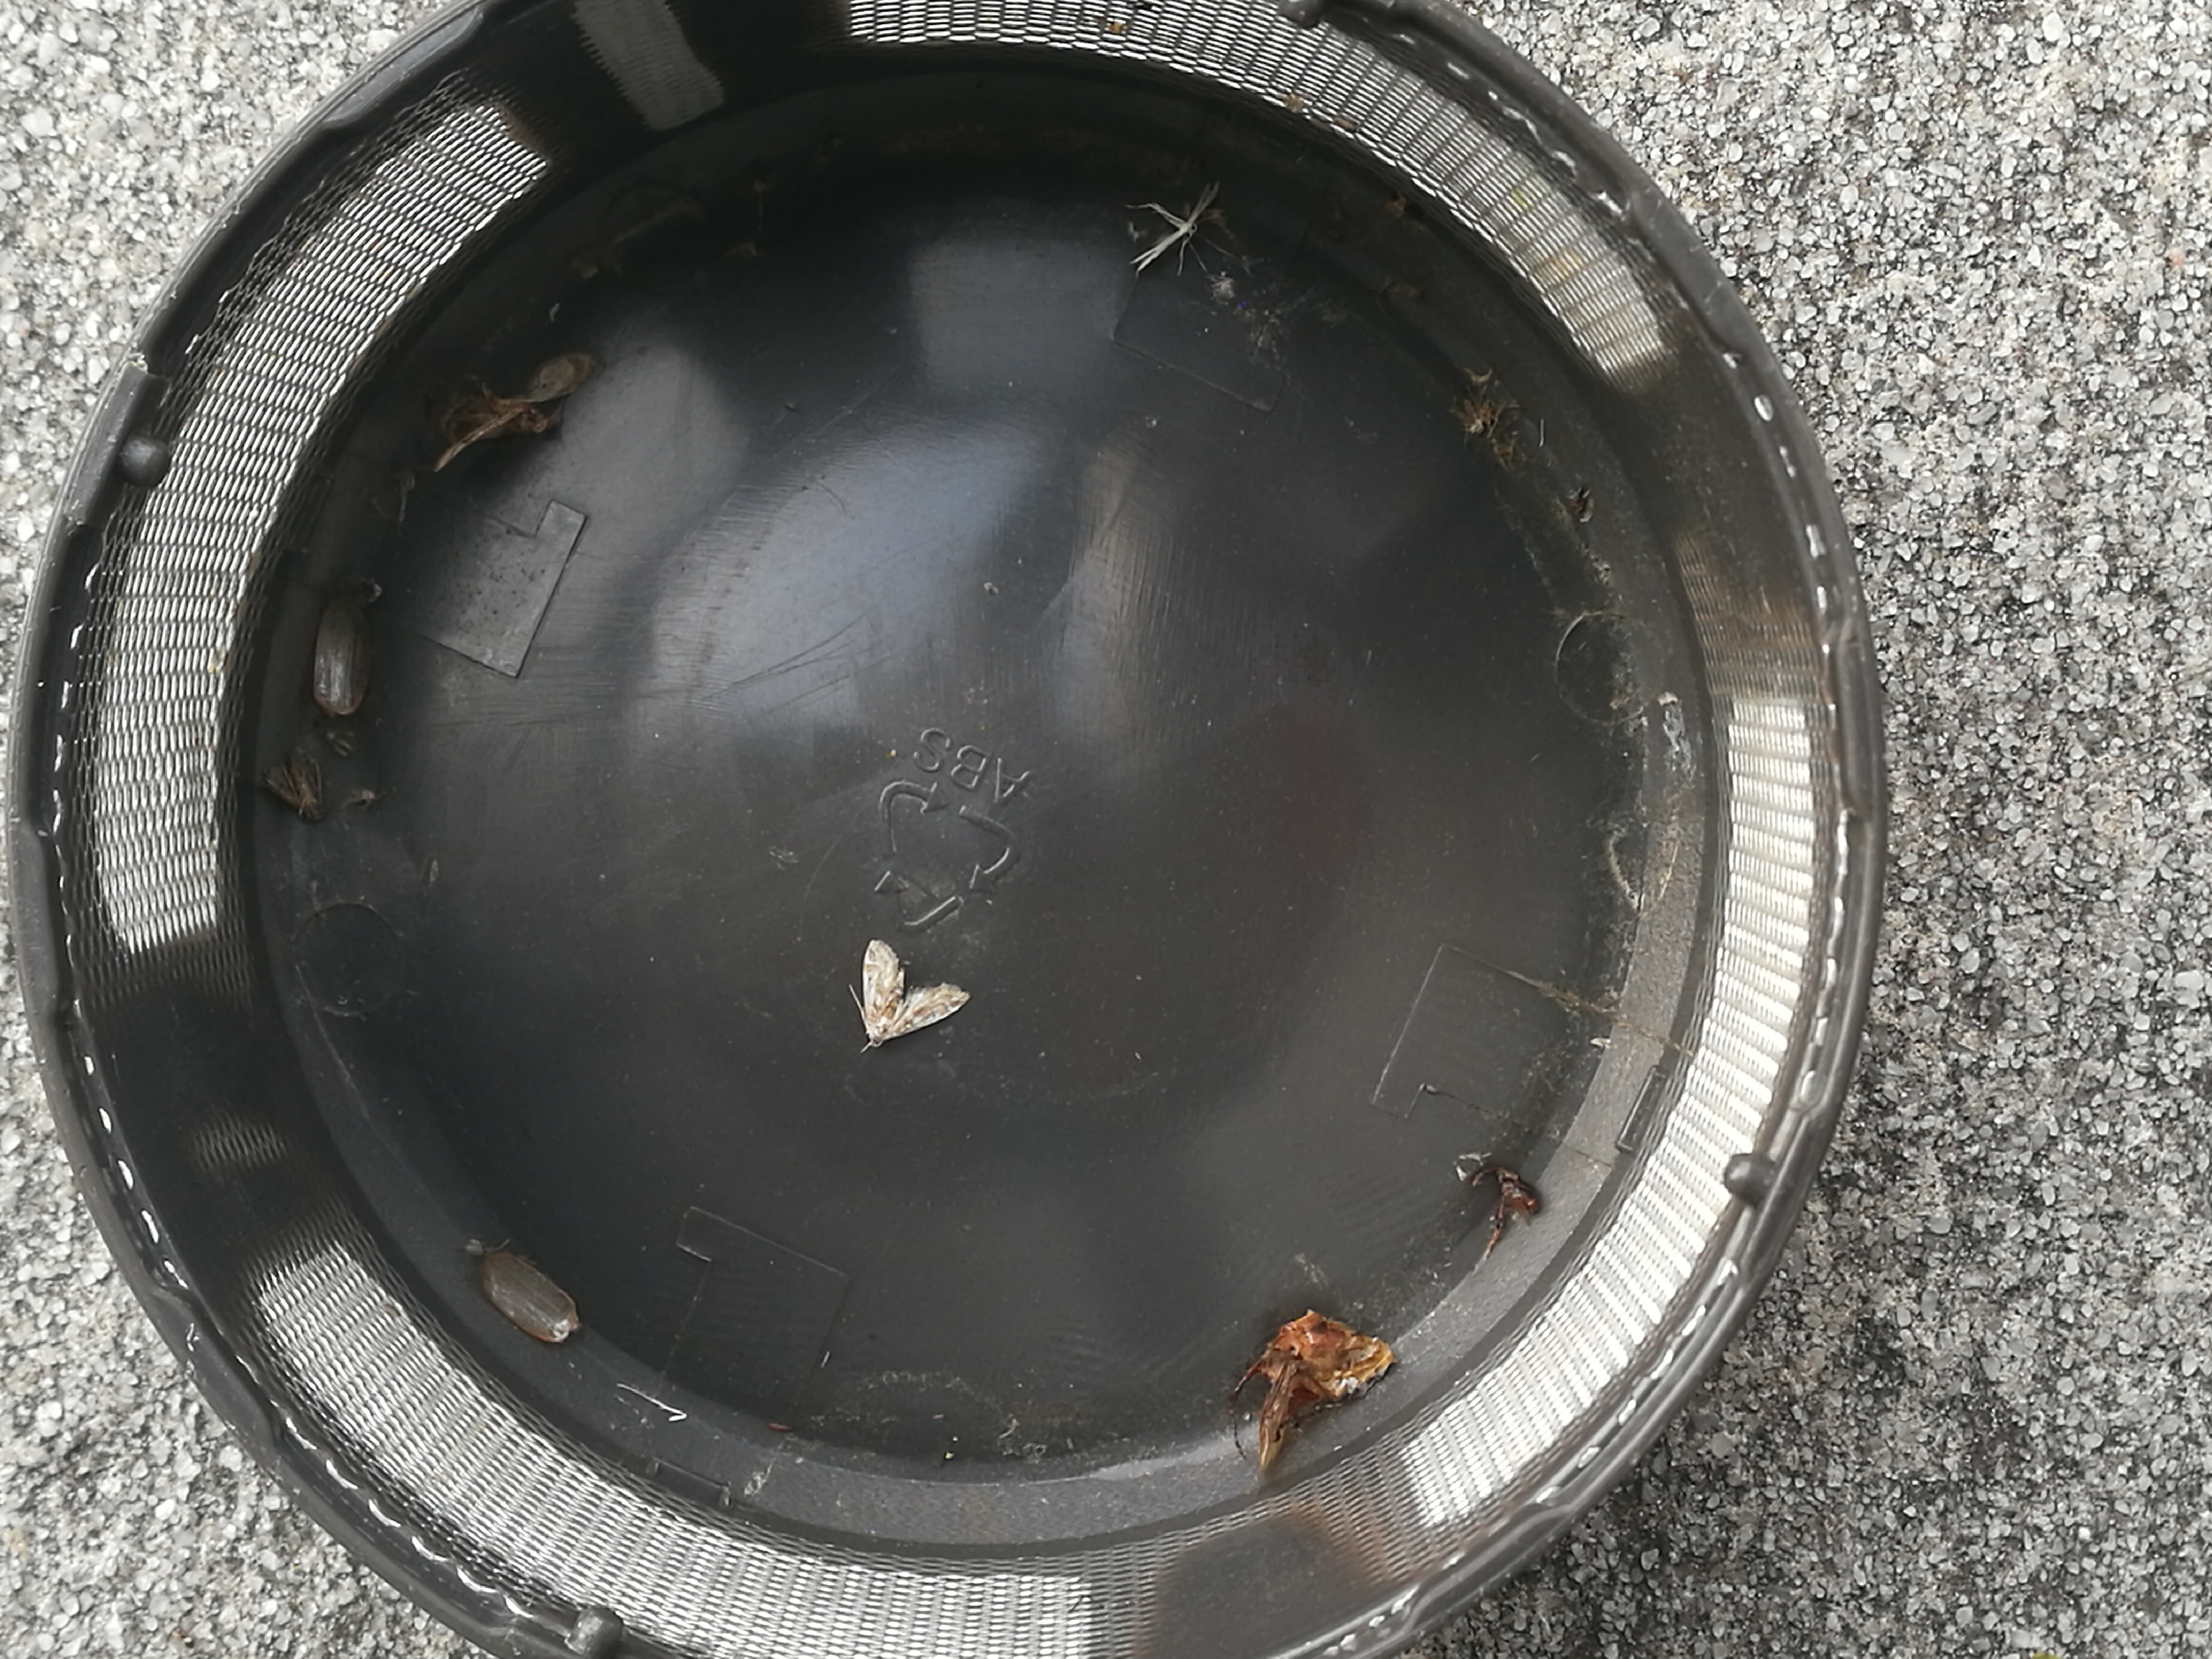mosquito: (1258, 1384, 1287, 1473)
moth: (864, 938, 970, 1049), (263, 746, 319, 824), (324, 730, 354, 756)
